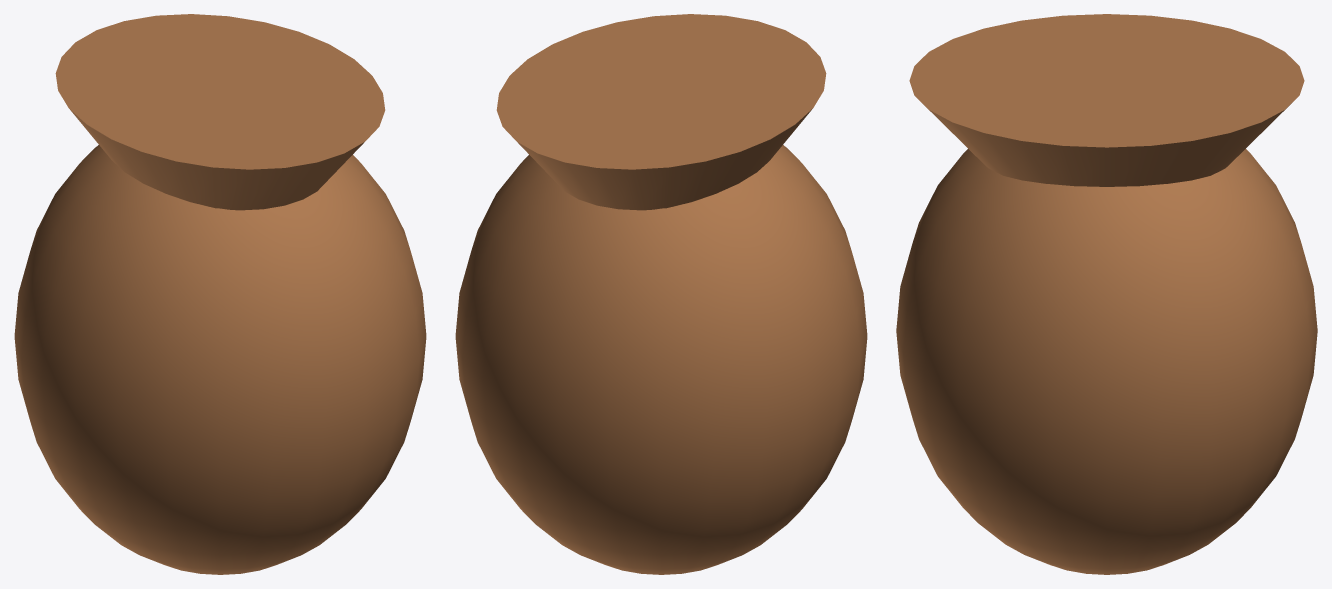
The model's file is wp-sac-de-pieces.glb.
3 renders of one model, left to right at view 1: azimuth 30°, elevation 25°; view 2: azimuth 150°, elevation 25°; view 3: azimuth 270°, elevation 25°, orthographic. The views are drawn at different scales.
Parts seen in each view (by area): view 1: wp-sac-de-pieces; view 2: wp-sac-de-pieces; view 3: wp-sac-de-pieces.
Boxes of the visible parts, x1,y1,x2,y2 form: wp-sac-de-pieces: [14, 14, 426, 574]; wp-sac-de-pieces: [455, 14, 867, 574]; wp-sac-de-pieces: [896, 14, 1317, 574].
Size of the model in its own units: 0.2 by 0.25 by 0.2.
